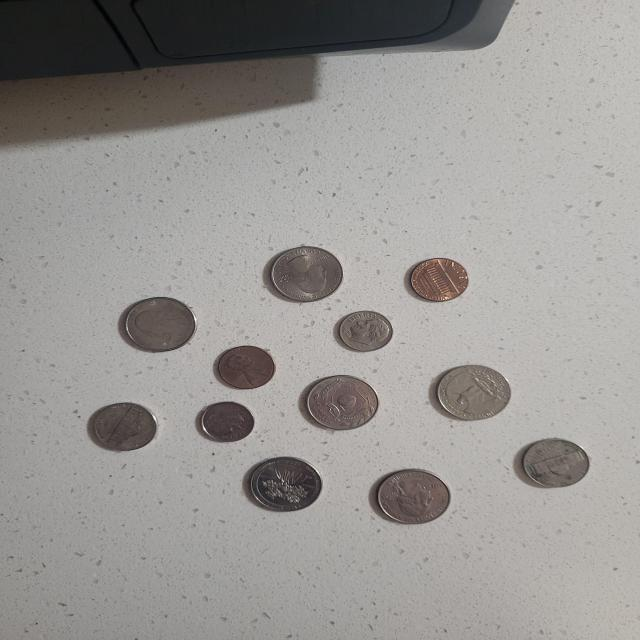Dime: (193, 394, 260, 446), (334, 308, 401, 354)
Nickel: (85, 398, 162, 459), (514, 438, 590, 488)
Penny: (398, 254, 480, 308), (213, 344, 278, 391)
Quarter: (412, 358, 524, 432), (285, 374, 391, 438), (117, 291, 204, 356), (240, 452, 328, 513), (266, 242, 347, 306), (370, 467, 454, 527)
